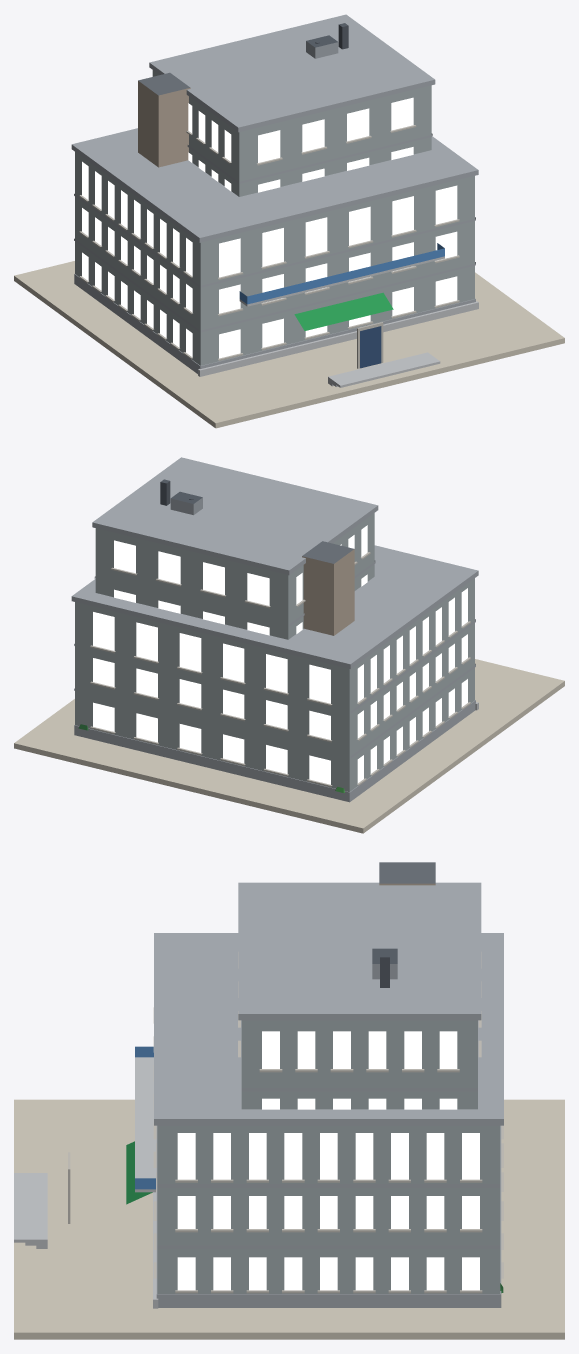
The picture shows the model from 3 angles, top to bottom: view 1: azimuth 30°, elevation 25°; view 2: azimuth 150°, elevation 25°; view 3: azimuth 270°, elevation 25°; orthographic projection. The views are drawn at different scales.
Parts seen in each view (by area): view 1: b07_x2; view 2: b07_x2; view 3: b07_x2.
Boxes of the visible parts, box(x1,y1,x2,y2) form: b07_x2: box(14, 14, 564, 428); b07_x2: box(14, 457, 564, 833); b07_x2: box(14, 862, 564, 1339).
Size of the model in its own units: 1.96 by 1.28 by 1.96.
